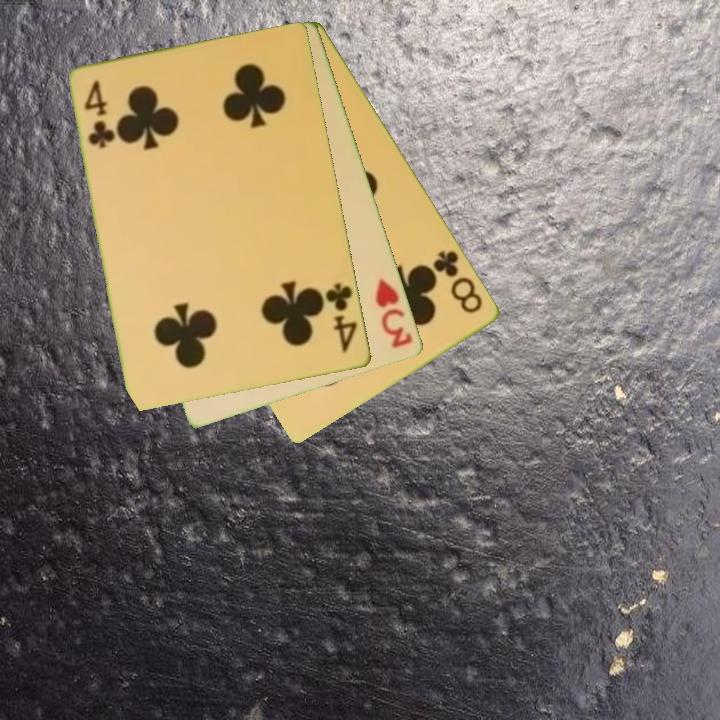3h: (372, 274, 416, 351)
4c: (322, 280, 361, 356), (81, 77, 116, 152)
8c: (430, 247, 486, 317)
